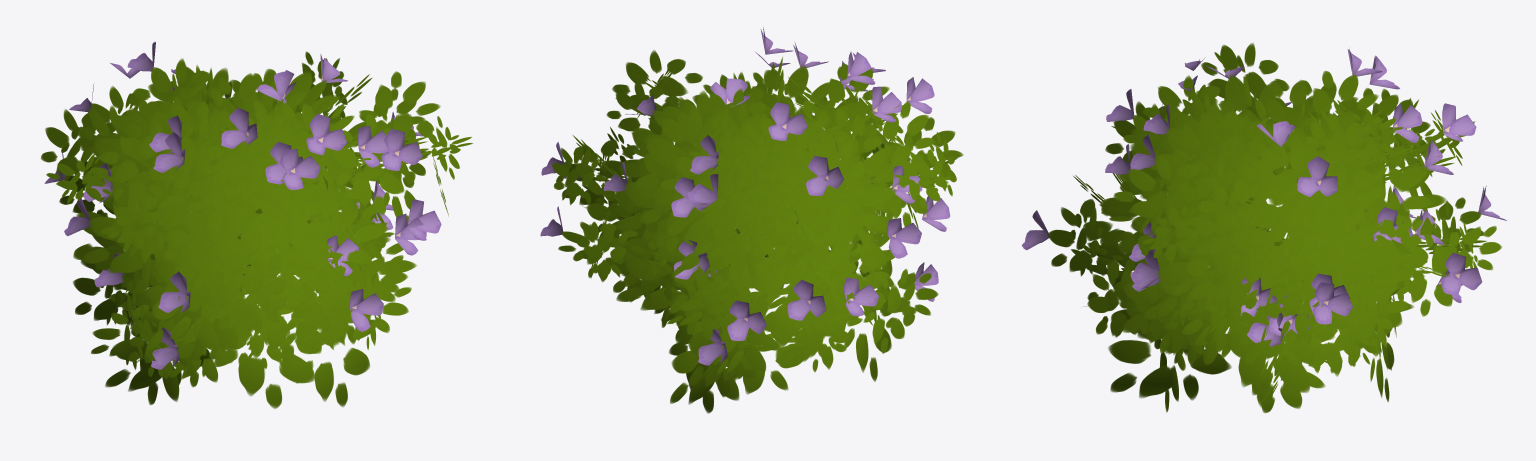
The model's file is bush-flowers.glb.
3 views of the same model, side by side, from view 1: azimuth 30°, elevation 25°; view 2: azimuth 150°, elevation 25°; view 3: azimuth 270°, elevation 25° (orthographic). The views are drawn at different scales.
Visible parts, largest first — view 1: Bush_Common_Flowers; view 2: Bush_Common_Flowers; view 3: Bush_Common_Flowers.
Part boxes in pixels (x1=…): Bush_Common_Flowers: x1=41, y1=41, x2=473, y2=408; Bush_Common_Flowers: x1=540, y1=27, x2=963, y2=413; Bush_Common_Flowers: x1=1022, y1=43, x2=1506, y2=412.
Bounding box in the file's own units: 1.91 × 1.58 × 1.97.
Materials: 2 (2 with a texture image).
